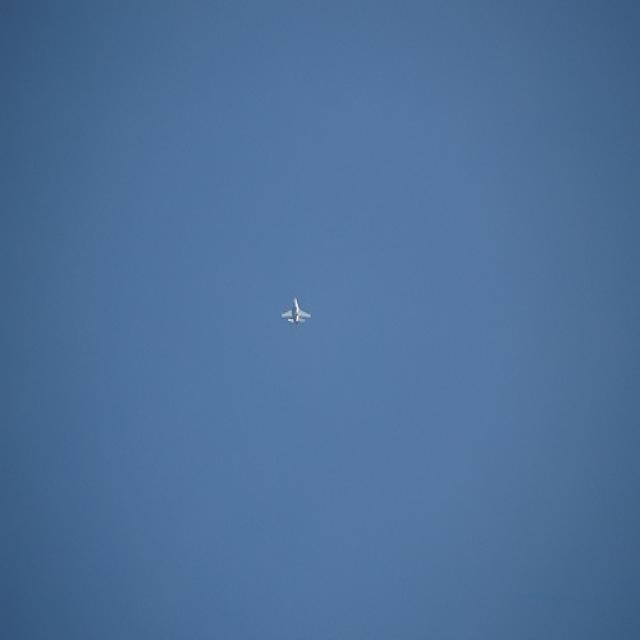aeroplane: (280, 299, 310, 324)
